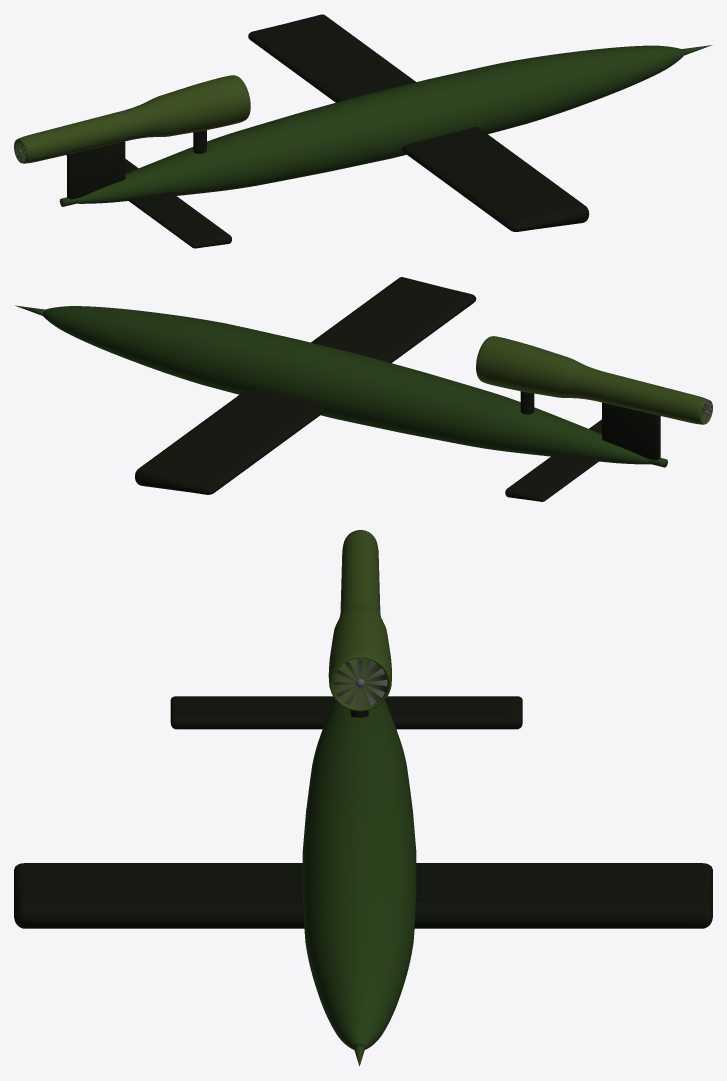
3 views of the same model, one above another, from view 1: azimuth 30°, elevation 25°; view 2: azimuth 150°, elevation 25°; view 3: azimuth 270°, elevation 25° (orthographic). The views are drawn at different scales.
Parts seen in each view (by area): view 1: Line001, ChamferBox040, pip1, ChamferBox041, ChamferBox039; view 2: Line001, ChamferBox040, pip1, ChamferBox039, ChamferBox041; view 3: ChamferBox040, Line001, ChamferBox041, pip1.
Boxes of the visible parts, box(x1,y1,x2,y2) form: Line001: box(77, 45, 684, 203); ChamferBox040: box(248, 14, 589, 231); pip1: box(14, 75, 250, 163); ChamferBox041: box(66, 155, 231, 248); ChamferBox039: box(67, 141, 125, 199); Line001: box(42, 306, 650, 464); ChamferBox040: box(135, 277, 476, 494); pip1: box(476, 336, 712, 424); ChamferBox039: box(602, 402, 660, 460); ChamferBox041: box(505, 419, 601, 501); ChamferBox040: box(14, 863, 712, 928); Line001: box(302, 698, 416, 1049); ChamferBox041: box(170, 696, 522, 729); pip1: box(328, 530, 391, 711).
Size of the model in its own units: 464 by 71.66 by 310.
